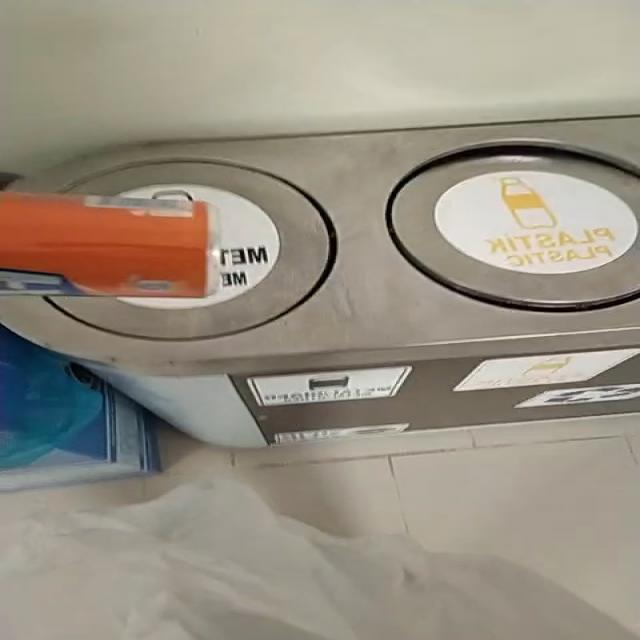Other: (0, 116, 387, 191)
